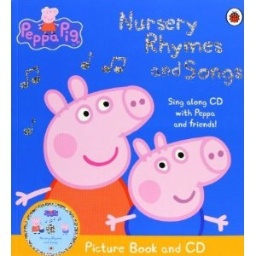Peppa: (14, 73, 154, 233)
